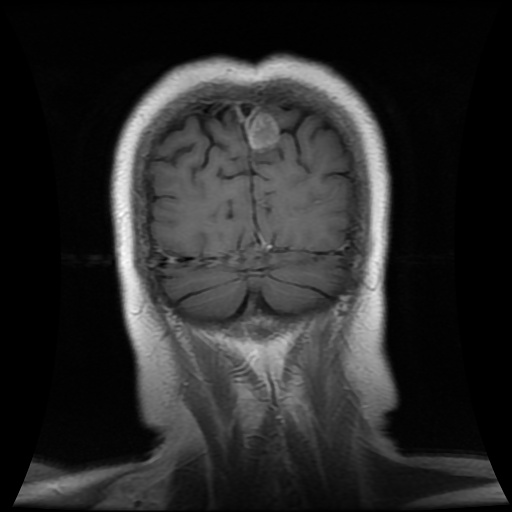meningioma: (247, 112, 279, 151)
